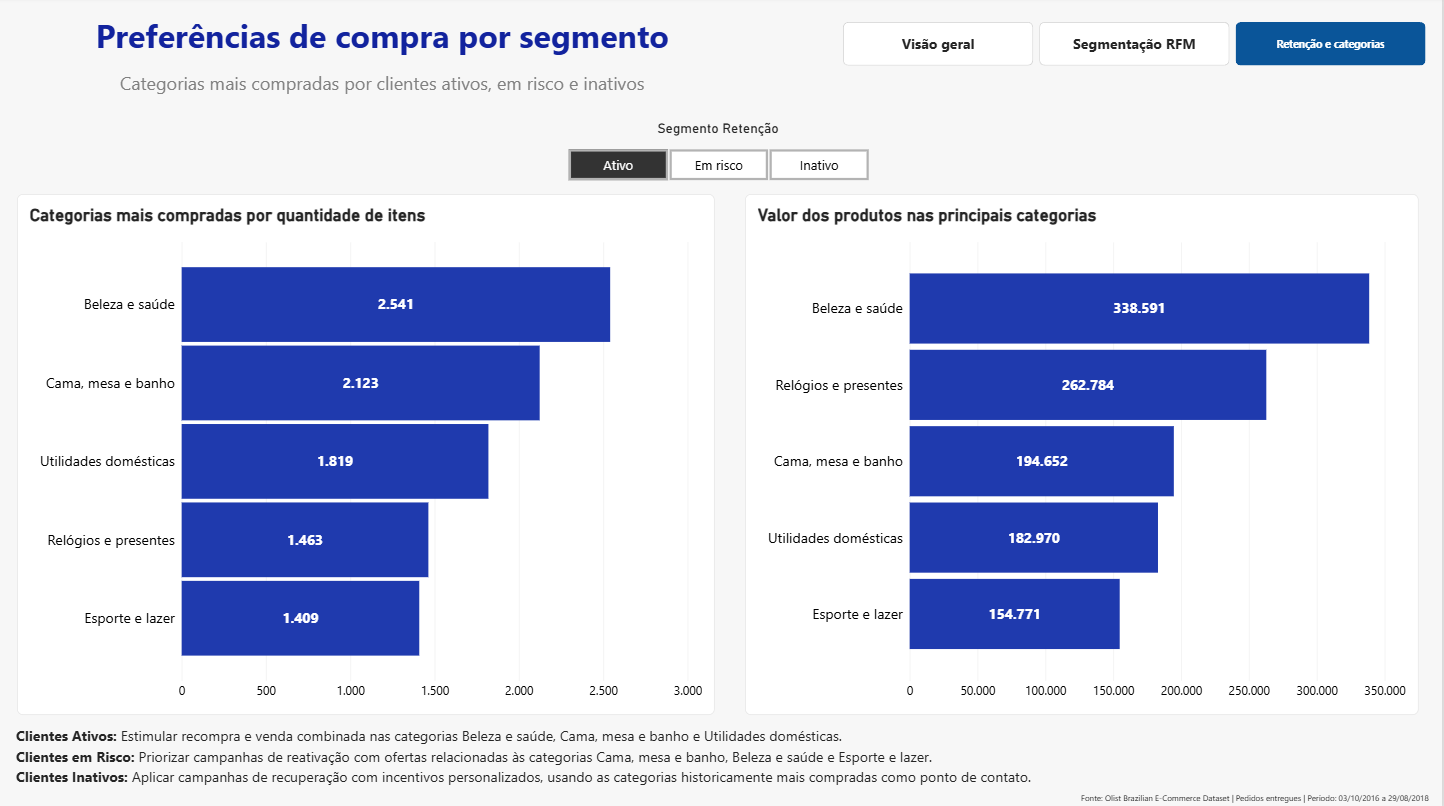

What the dashboard file says about the page in this screenshot:
{"tool":"powerbi","page":{"name":"Retenção e categorias","canvas":[1920,1080],"ordinal":2},"visuals":[{"type":"textbox","box":[25,20.8,971.7,118.2],"z":0},{"type":"textbox","box":[25,97.3,971.7,45.2],"z":1000},{"type":"clusteredBarChart","title":"Categorias mais compradas por quantidade de itens","fields":{"Category":["categorias_por_segmento.Categoria Exibição"],"Y":["Sum(categorias_por_segmento.quantidade_itens)"]},"box":[25,261.6,927.9,693],"z":2000},{"type":"clusteredBarChart","title":"Valor dos produtos nas principais categorias","fields":{"Category":["categorias_por_segmento.Categoria Exibição"],"Y":["Sum(categorias_por_segmento.valor_produtos)"]},"box":[993.3,261.6,895.8,693],"z":3000},{"type":"textbox","box":[23.6,970.1,1868.6,34.7],"z":4000},{"type":"slicer","title":"Segmento Retenção","fields":{"Values":["categorias_por_segmento.Segmento Retenção"]},"box":[737.7,163.9,439,82],"z":5000},{"type":"textbox","box":[23.6,997,1868.6,34.7],"z":6000},{"type":"textbox","box":[23.6,1023.9,1868.6,34.7],"z":7000},{"type":"textbox","box":[1440.7,1054.5,479.3,25],"z":8000},{"type":"pageNavigator","box":[1123.9,33.3,776.6,58.4],"z":9000}]}

Visuals, with their boxes in screenshot pixels (x1, y1, x2, y2), scaled from the page's 1920x1080 canvas onto the 1444x806 screenshot:
textbox: rect(19, 16, 750, 104)
textbox: rect(19, 73, 750, 106)
"Categorias mais compradas por quantidade de itens" clusteredBarChart: rect(19, 195, 717, 712)
"Valor dos produtos nas principais categorias" clusteredBarChart: rect(747, 195, 1421, 712)
textbox: rect(18, 724, 1423, 750)
"Segmento Retenção" slicer: rect(555, 122, 885, 184)
textbox: rect(18, 744, 1423, 770)
textbox: rect(18, 764, 1423, 790)
textbox: rect(1084, 787, 1443, 805)
pageNavigator: rect(845, 25, 1429, 68)
